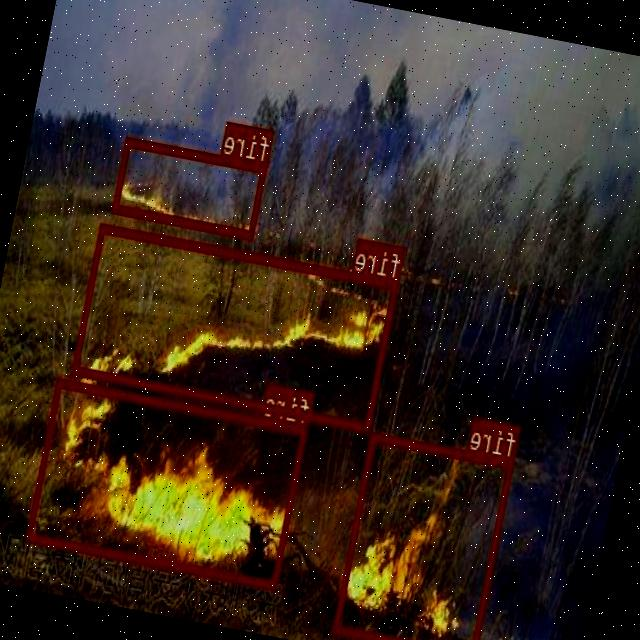fire: (72, 222, 400, 430), (28, 377, 309, 588), (333, 431, 516, 640), (113, 136, 270, 240)
